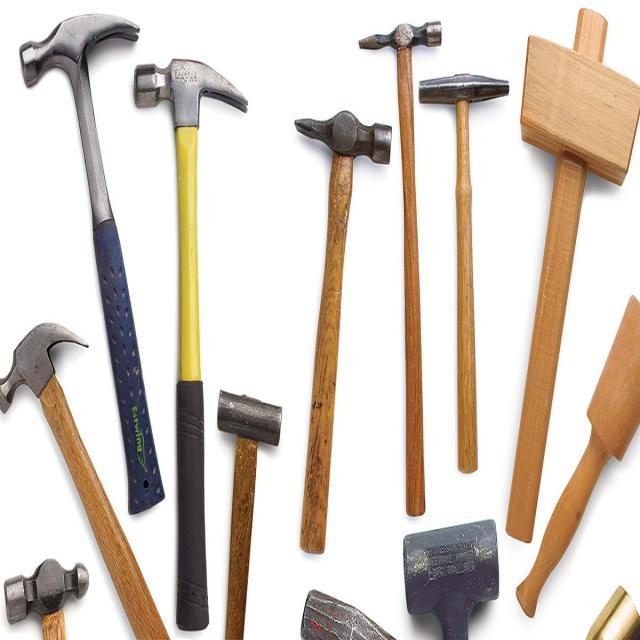hammer: (12, 7, 174, 514), (501, 0, 640, 553), (129, 35, 256, 640), (350, 6, 452, 545), (0, 318, 172, 632), (289, 95, 396, 564), (415, 48, 513, 478), (212, 371, 292, 640)
